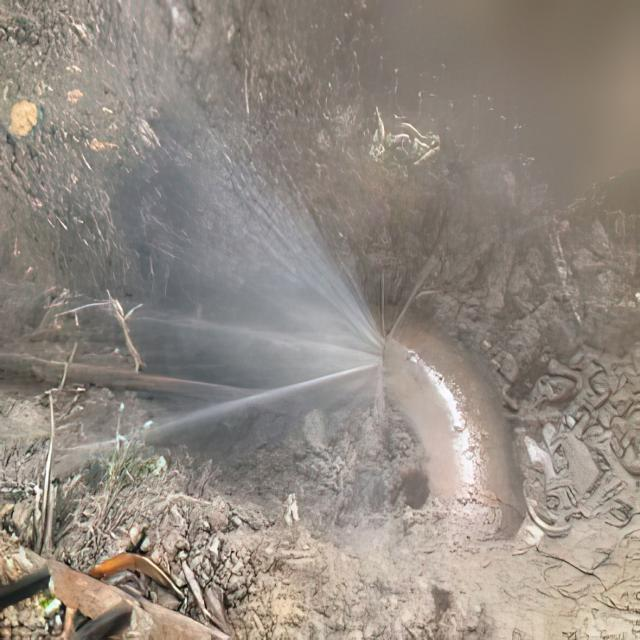leak: (0, 67, 387, 493)
